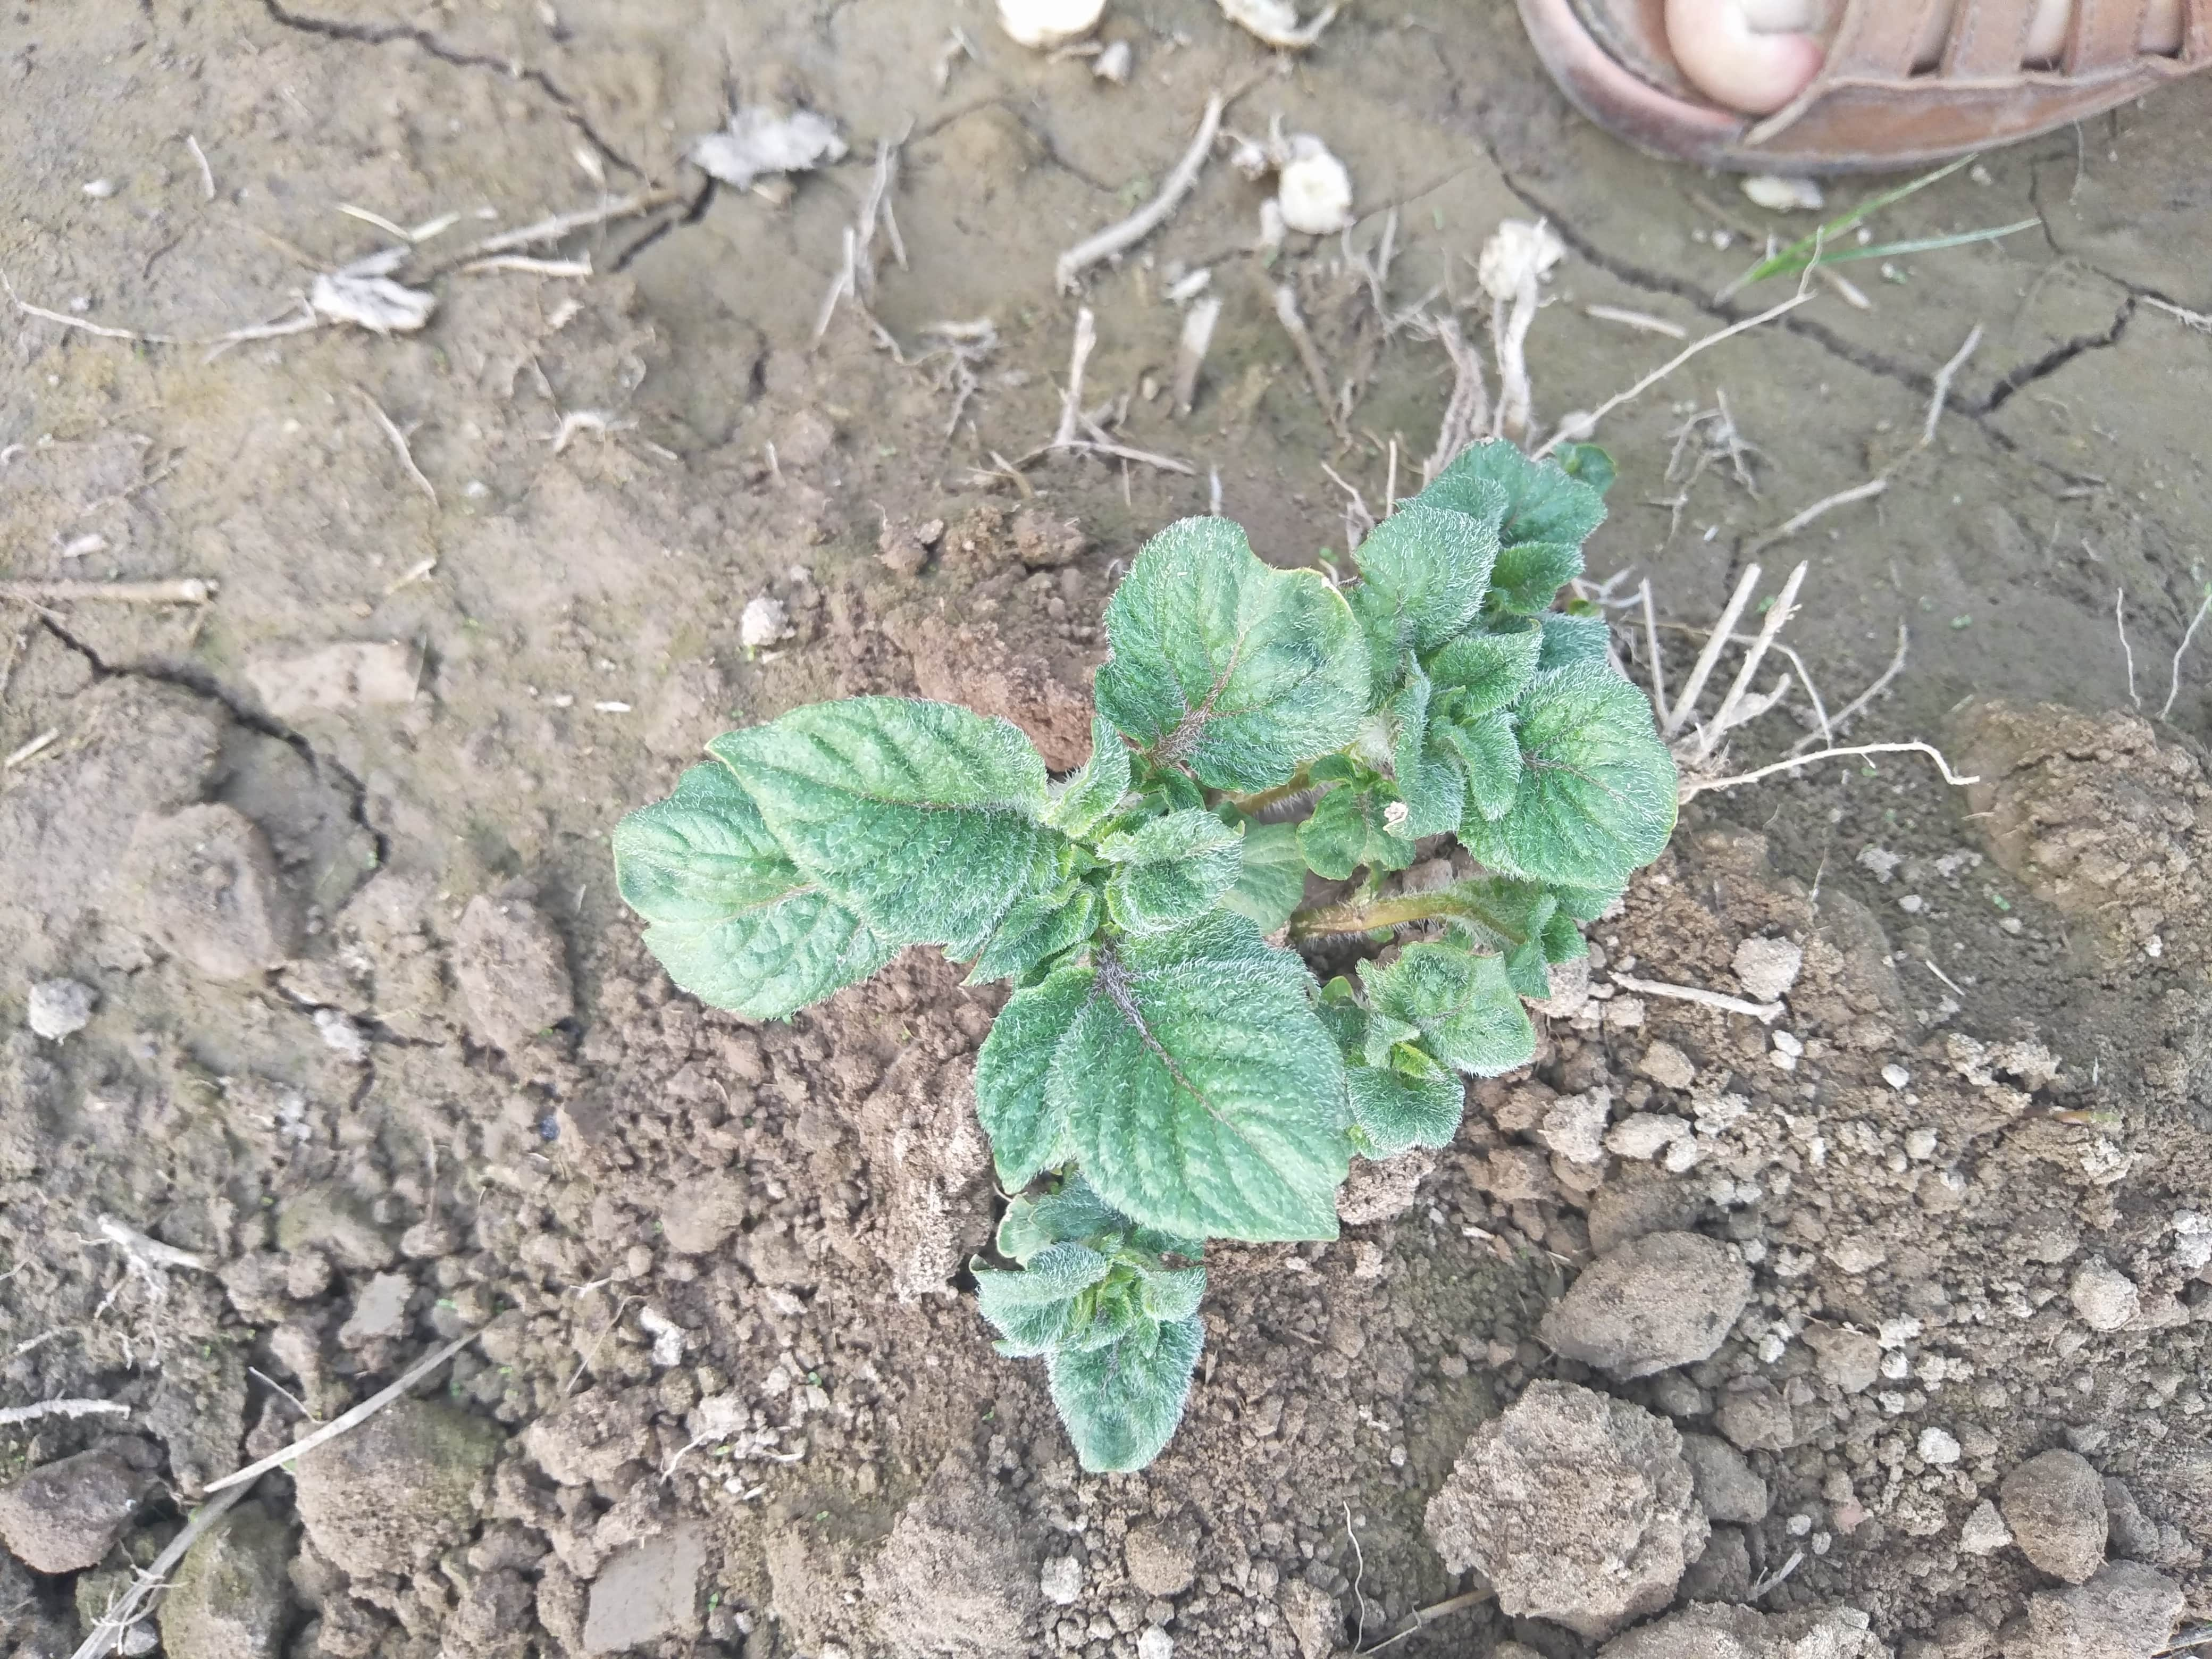daun: (1073, 918, 1343, 1236), (704, 694, 1040, 946), (1092, 509, 1364, 793), (608, 753, 881, 1014), (1470, 667, 1665, 885), (967, 955, 1096, 1187), (1054, 1291, 1195, 1471), (1374, 918, 1529, 1072), (1353, 509, 1500, 645), (1092, 807, 1254, 918), (1420, 446, 1608, 542), (977, 1253, 1113, 1352), (1437, 627, 1548, 701)
